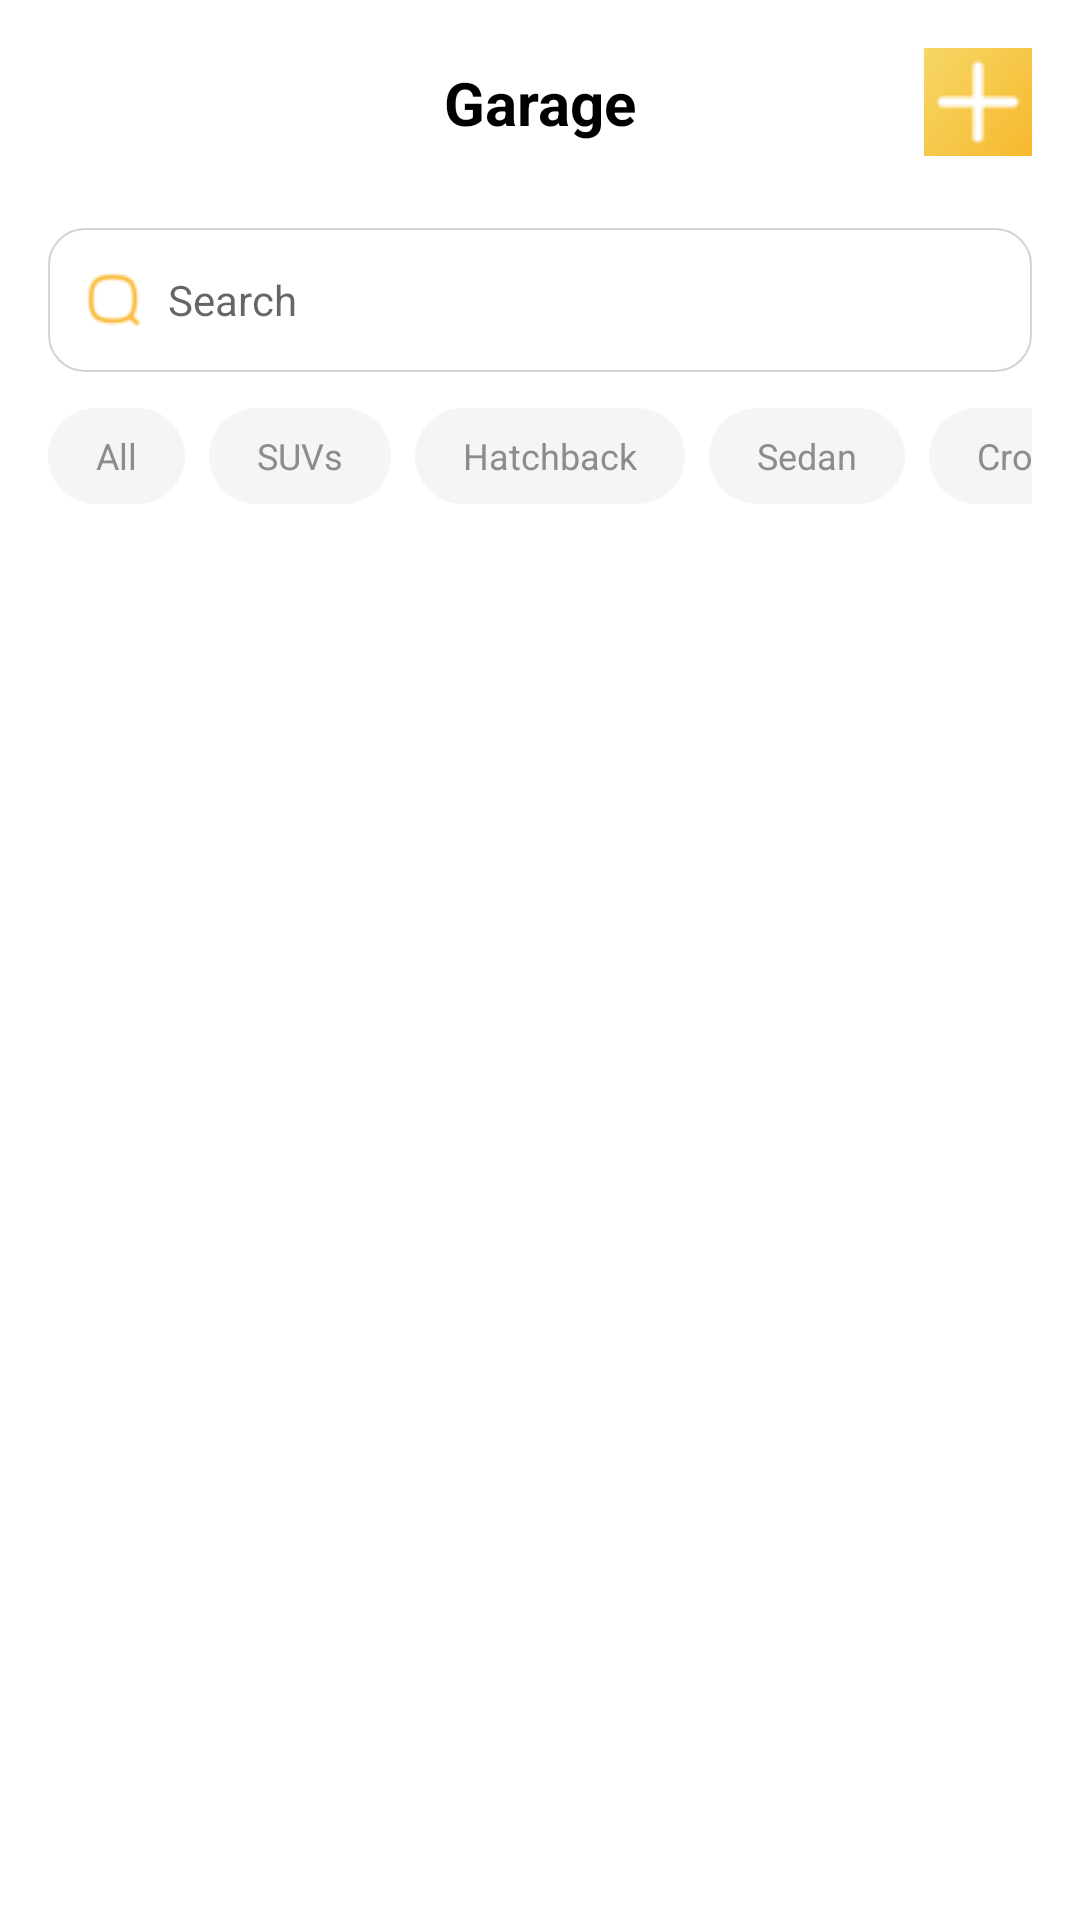

Screen size 1080×1920. Icon name, then its center in pixels as point (x, y):
addicon: point (978, 102)
